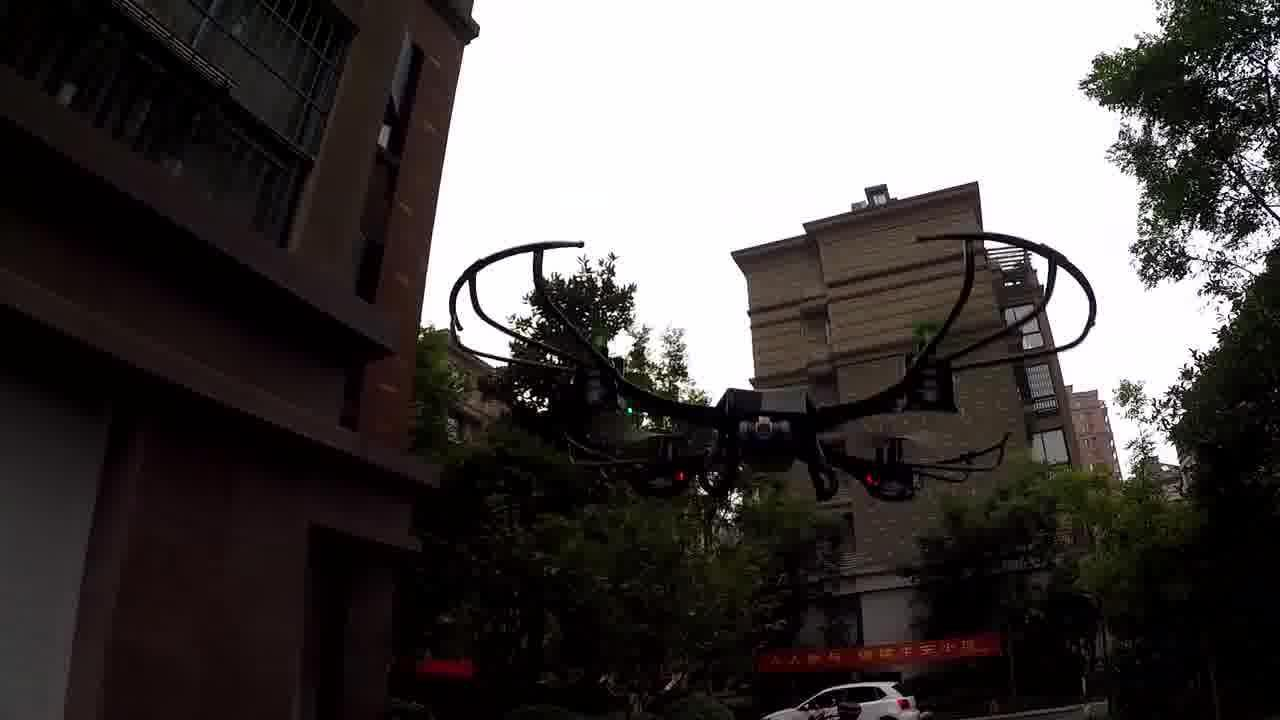drone: (416, 213, 1092, 537)
